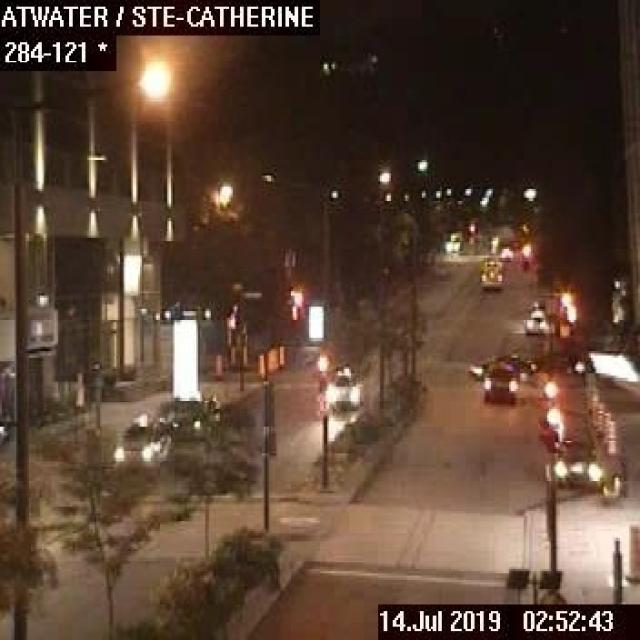bus: (478, 255, 503, 288)
construction: (604, 419, 614, 454), (601, 410, 610, 444), (594, 408, 603, 436), (213, 353, 221, 378), (255, 351, 262, 378), (266, 350, 273, 372), (277, 344, 283, 366), (271, 348, 276, 368)
vehicle: (544, 437, 600, 489), (113, 414, 172, 462), (481, 362, 517, 404), (326, 368, 361, 409), (522, 304, 549, 336)
